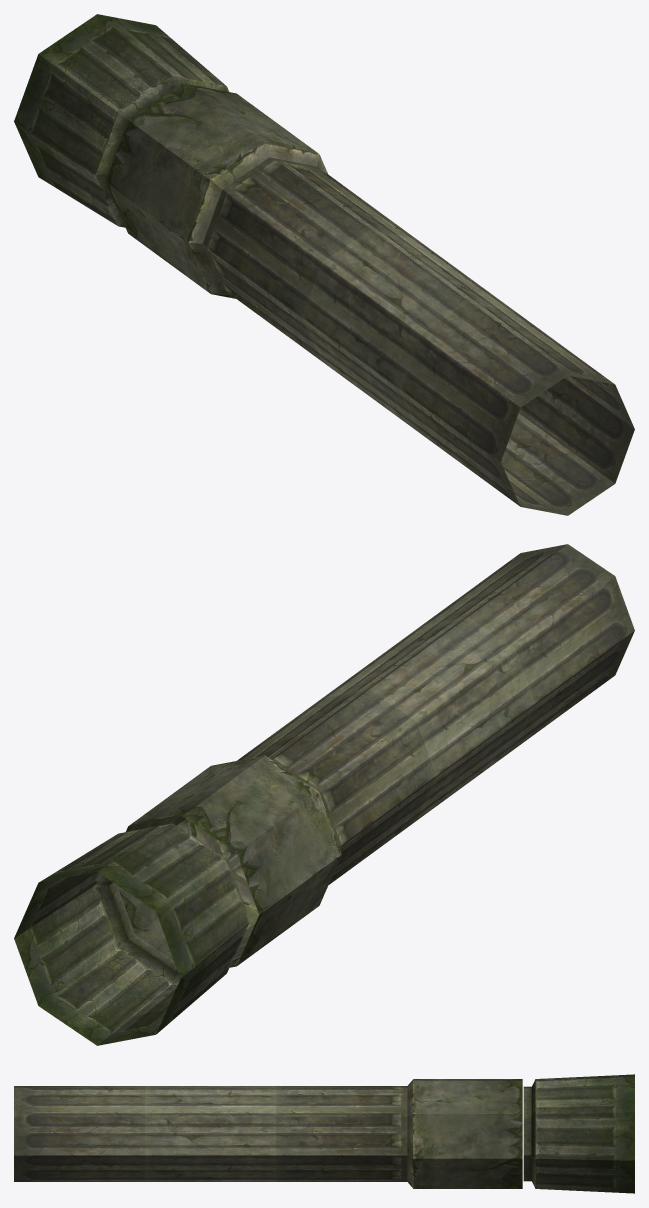
The model's file is zhucheng_yewai_291_qishi_jz_04.obj.
The picture shows the model from 3 angles, top to bottom: view 1: azimuth 30°, elevation 25°; view 2: azimuth 150°, elevation 25°; view 3: azimuth 270°, elevation 25°; orthographic projection. The views are drawn at different scales.
Parts seen in each view (by area): view 1: objCylinder02; view 2: objCylinder02; view 3: objCylinder02.
Boxes of the visible parts, bbox=[...] form: objCylinder02: bbox=[14, 14, 634, 515]; objCylinder02: bbox=[14, 544, 634, 1045]; objCylinder02: bbox=[14, 1074, 634, 1193].
Size of the model in its own units: 240 by 240 by 1175.
5 materials, 5 textured.
